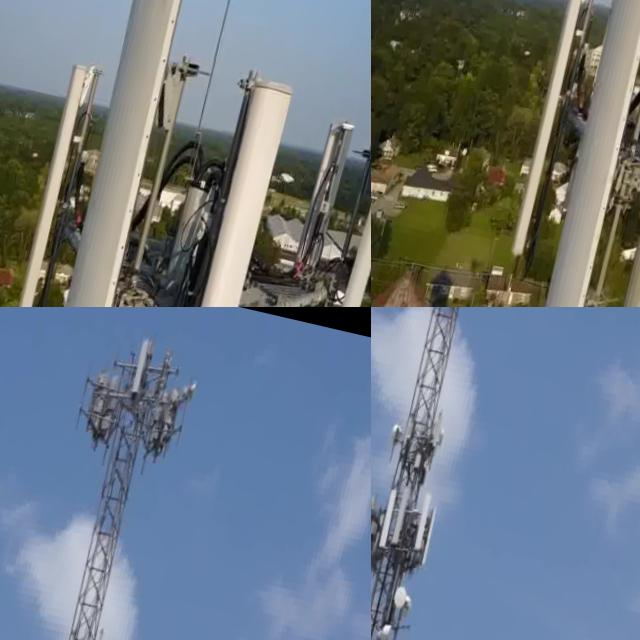GSM Antenna: (0, 0, 208, 307), (130, 61, 297, 307), (515, 0, 640, 307), (0, 55, 107, 307), (505, 0, 602, 256), (248, 115, 360, 307), (286, 61, 371, 307), (413, 498, 444, 578), (407, 487, 437, 563), (374, 481, 404, 554), (387, 479, 415, 548), (127, 332, 153, 399), (371, 493, 378, 556)
Microwave Antenna: (180, 376, 202, 406), (388, 420, 408, 450), (392, 582, 409, 612), (400, 592, 417, 622), (375, 621, 396, 640), (434, 428, 447, 448)
